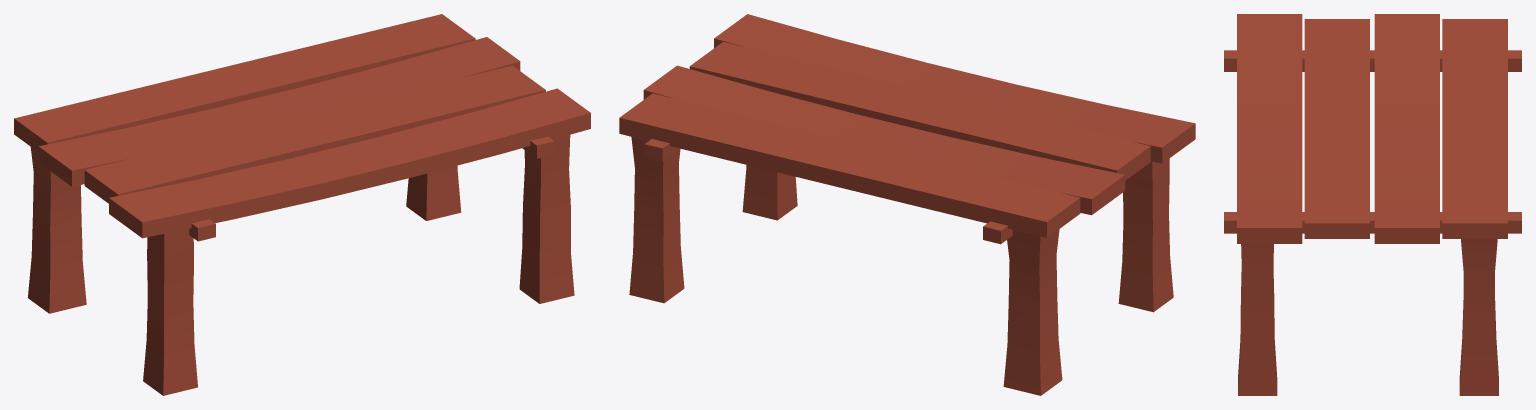
File: SM_table_wooden_01.fbx
3 views of the same model, side by side, from view 1: azimuth 30°, elevation 25°; view 2: azimuth 150°, elevation 25°; view 3: azimuth 270°, elevation 25° (orthographic). The views are drawn at different scales.
Parts seen in each view (by area): view 1: Cylinder085; view 2: Cylinder085; view 3: Cylinder085.
Part boxes in pixels (box(x1,y1,x2,y2)): Cylinder085: box(14, 14, 590, 395); Cylinder085: box(619, 14, 1195, 395); Cylinder085: box(1224, 14, 1521, 395).
Size of the model in its own units: 87.48 by 33.41 by 51.43.
